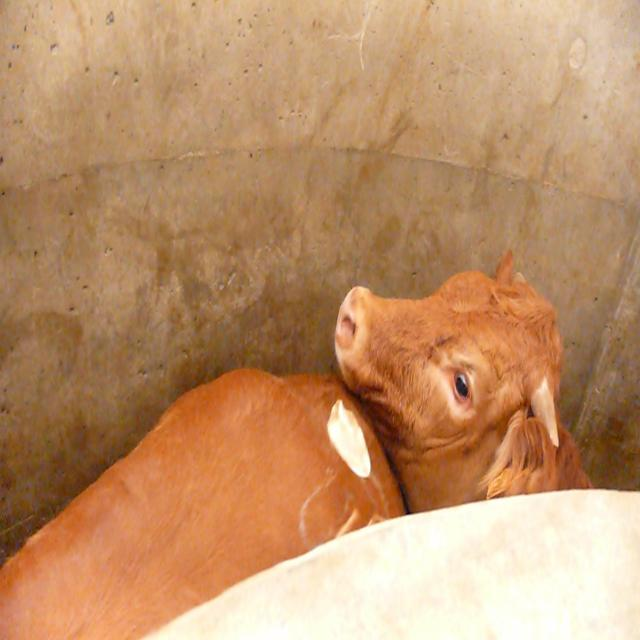cow: (0, 369, 405, 638), (335, 251, 590, 511)
